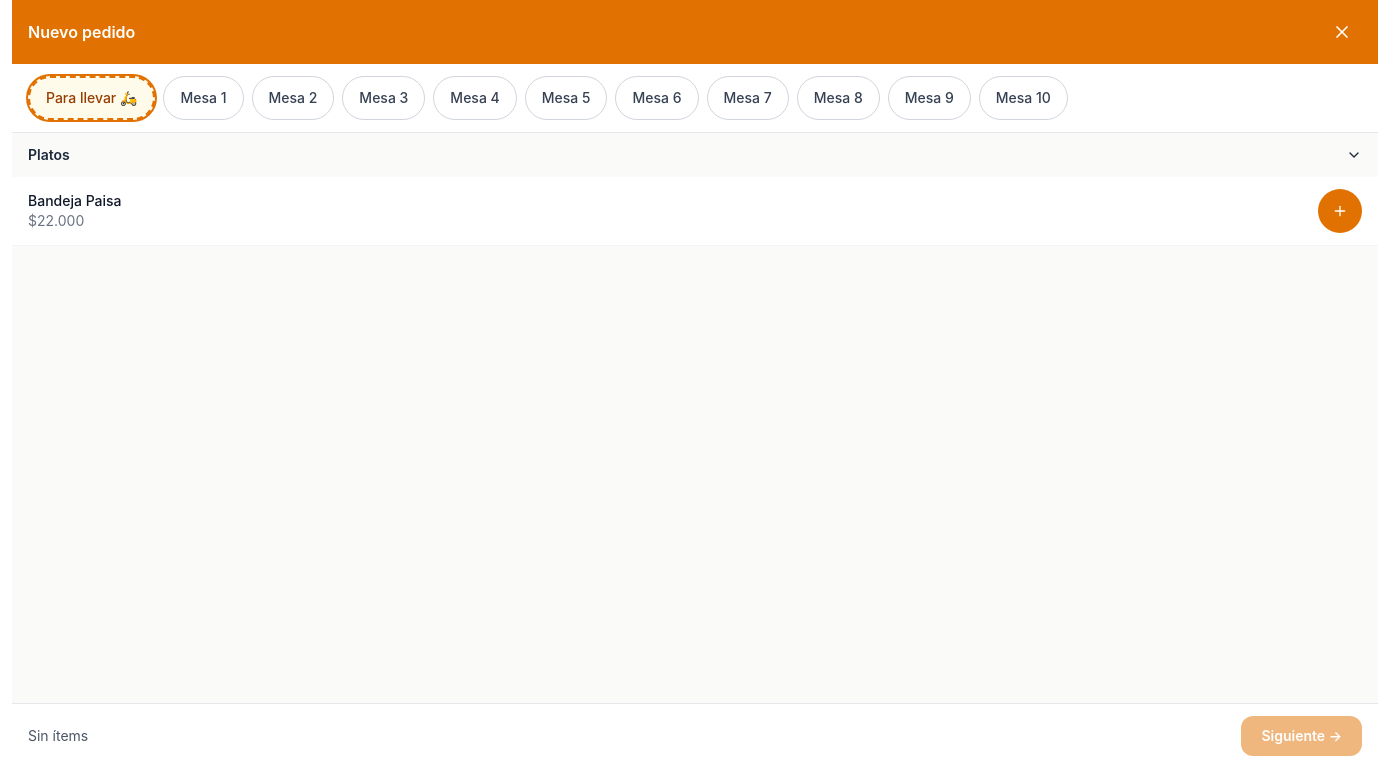
Test case: WaiterOrderPage › shows success state after order sent
Check: the text "Bandeja Paisa" is shown, box left=28, top=191, right=122, bottom=211
What coordinates should you click on to do the following:
click the button named "agregar bandeja paisa"
I would click on:
 (1340, 211)
Its box is left=1318, top=189, right=1362, bottom=233.
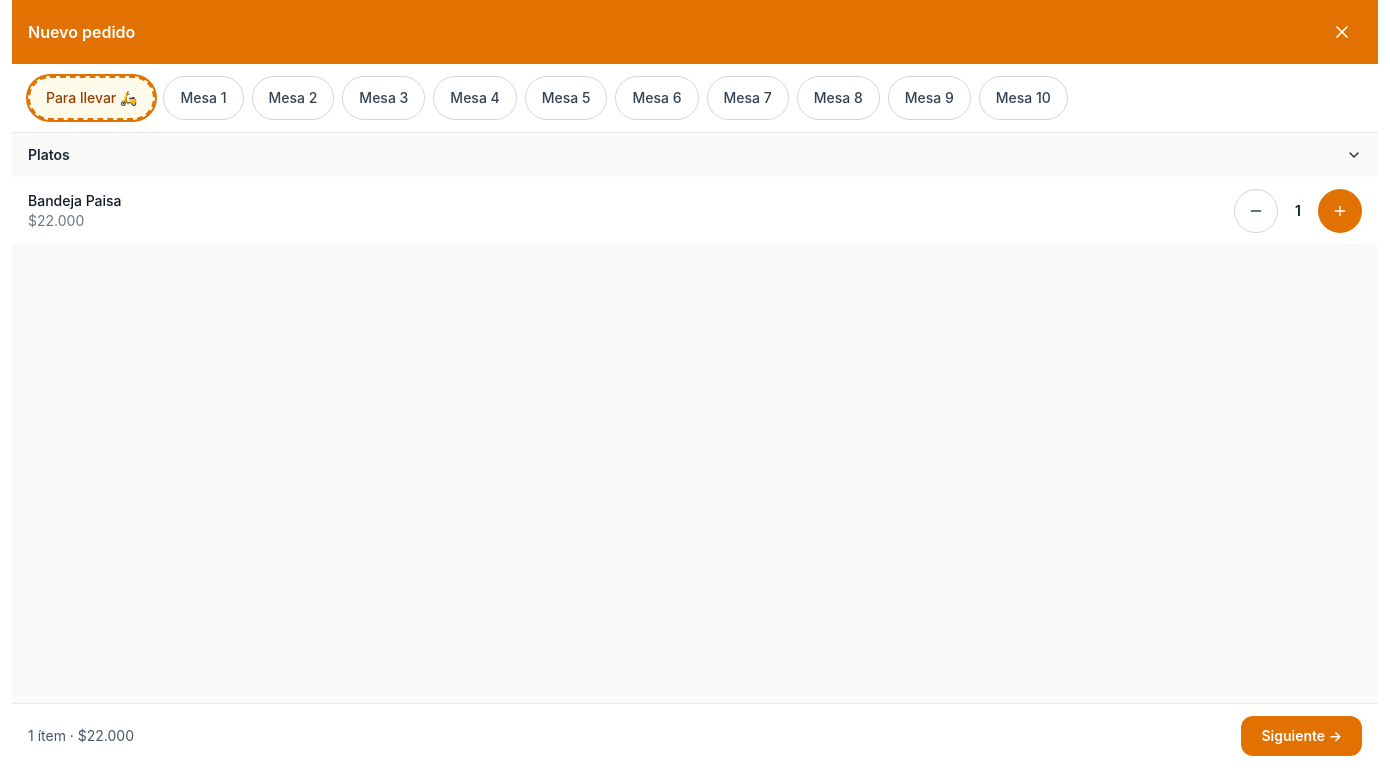
Check: the button "Siguiente →" is enabled, box left=1241, top=716, right=1362, bottom=756
